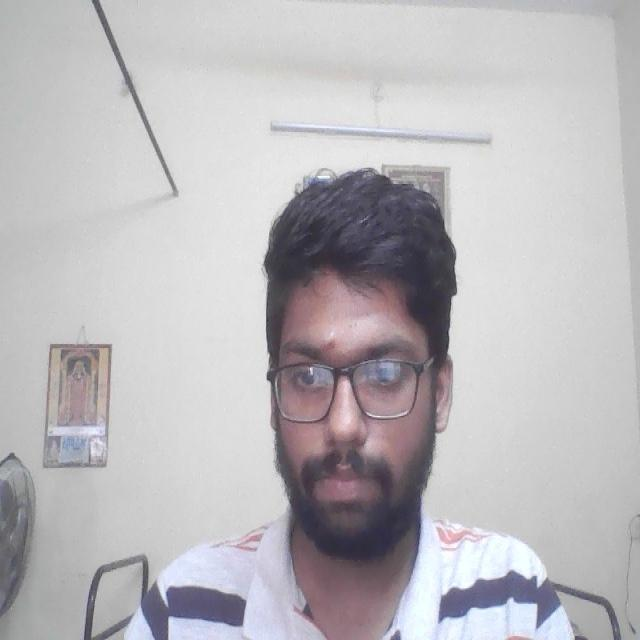Focused: (262, 278, 448, 531)
